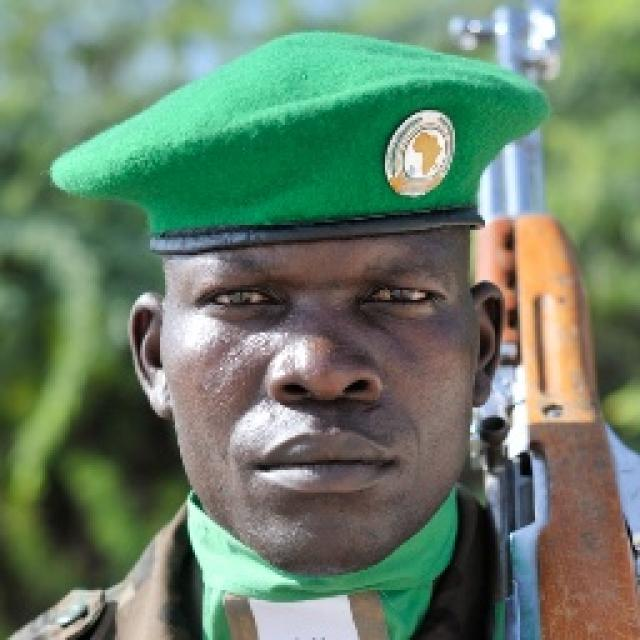earlobe: (128, 292, 173, 420), (471, 280, 505, 408)
